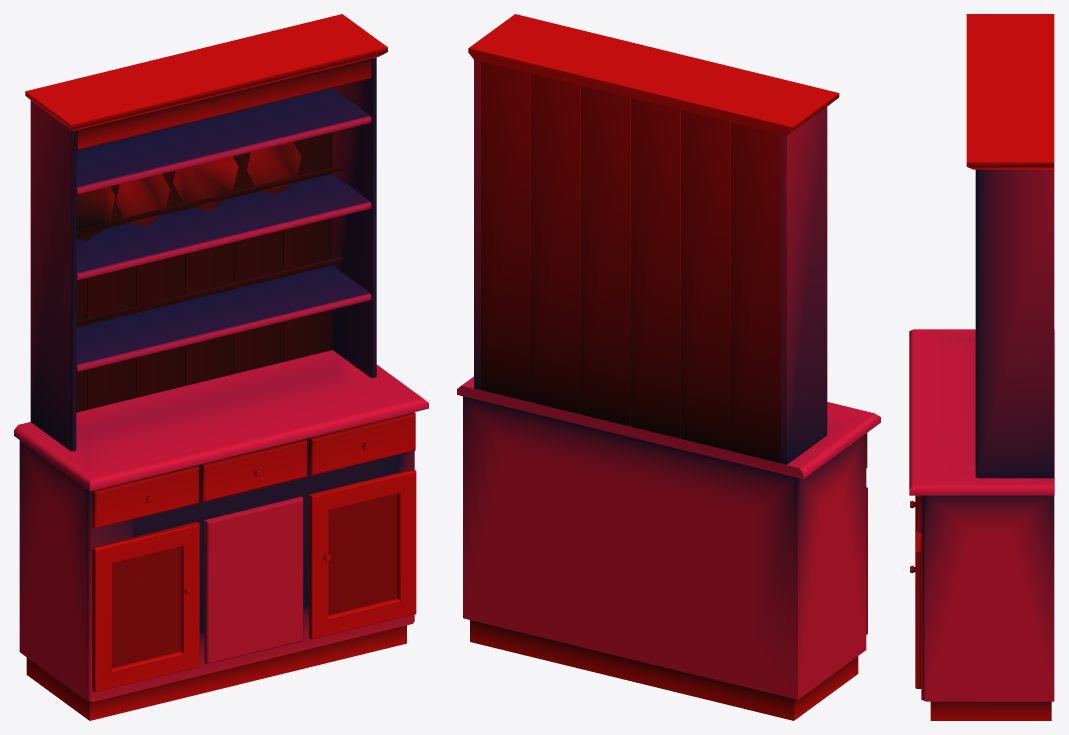
Rendered from CI_Kitchen_DresserHutch.glb.
The picture shows the model from 3 angles, left to right: view 1: azimuth 30°, elevation 25°; view 2: azimuth 150°, elevation 25°; view 3: azimuth 270°, elevation 25°; orthographic projection. The views are drawn at different scales.
Visible parts, largest first — view 1: CI_Kitchen_DresserHutch; view 2: CI_Kitchen_DresserHutch; view 3: CI_Kitchen_DresserHutch.
Part boxes in pixels (left/top/right/bottom): CI_Kitchen_DresserHutch: left=14, top=14, right=428, bottom=720; CI_Kitchen_DresserHutch: left=457, top=14, right=880, bottom=720; CI_Kitchen_DresserHutch: left=909, top=14, right=1054, bottom=720.
Bounding box in the file's own units: 1.24 × 2.03 × 0.48.
